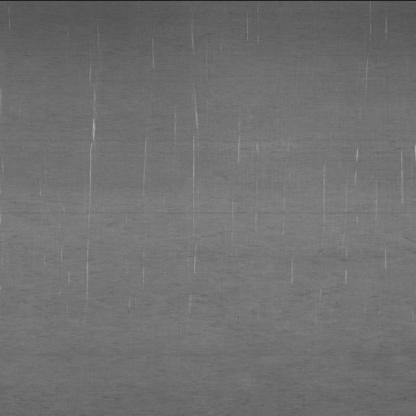waist_folding: (47, 24, 364, 382)
